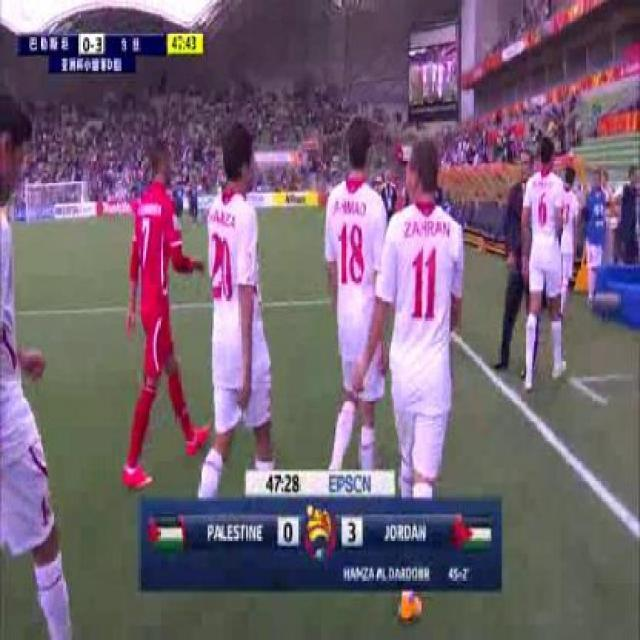player: (119, 138, 207, 484), (208, 117, 286, 495), (389, 130, 465, 486), (328, 116, 387, 479)
